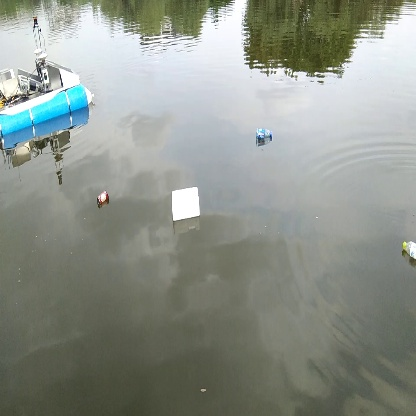bottle: (253, 124, 275, 145), (92, 188, 111, 207)
plastic-garbage: (170, 185, 203, 224)
